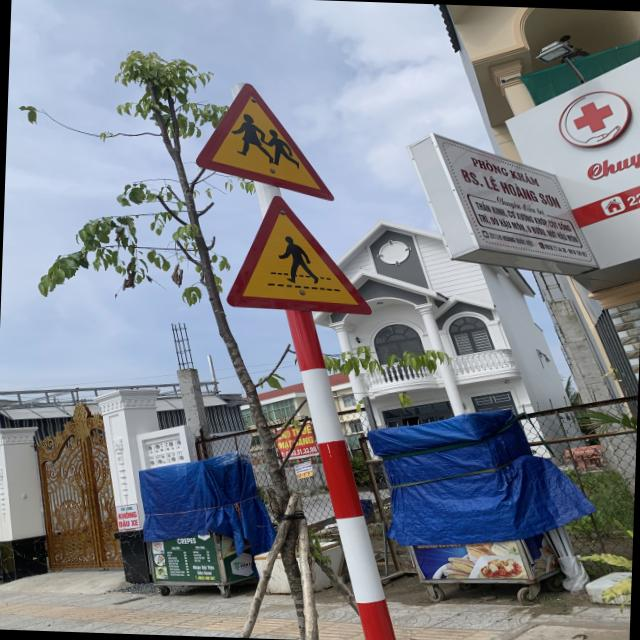Duong_Nguoi_Di_Bo_Sang_Ngang: (226, 190, 380, 315)
Vong_Xuyen: (191, 79, 338, 201)
